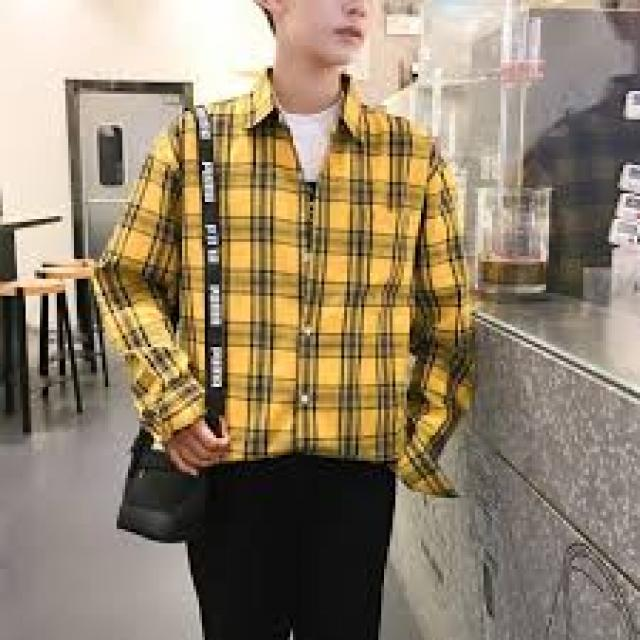plaid: (96, 99, 483, 496)
